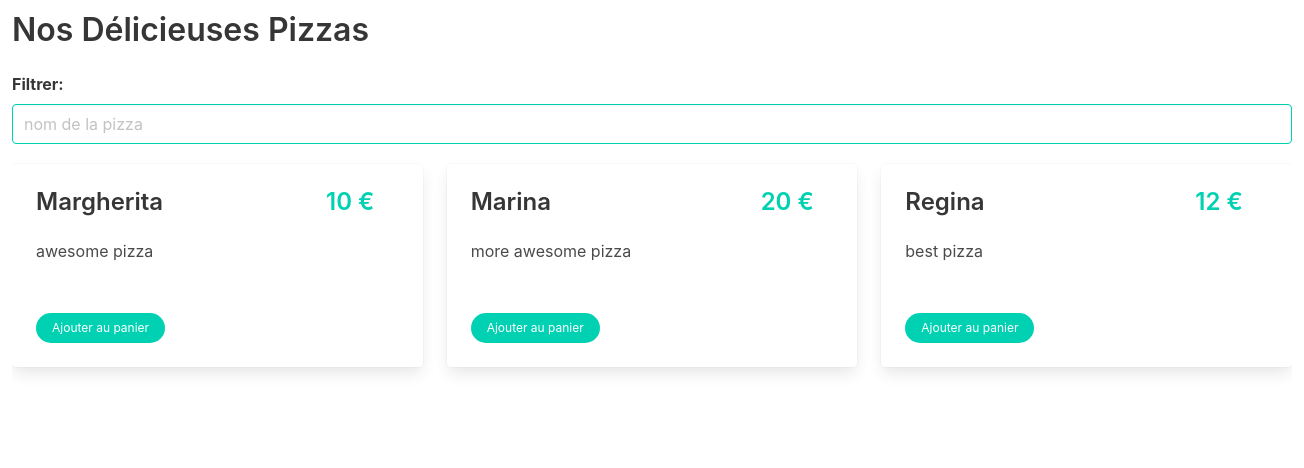
Scenario: pizzas from the store › filter returns results
# use filter, check that pizza list moved accordingly
Type "Mar" into the field with placeholder "nom de la pizza" at (652, 124), box [12,104,1292,144]
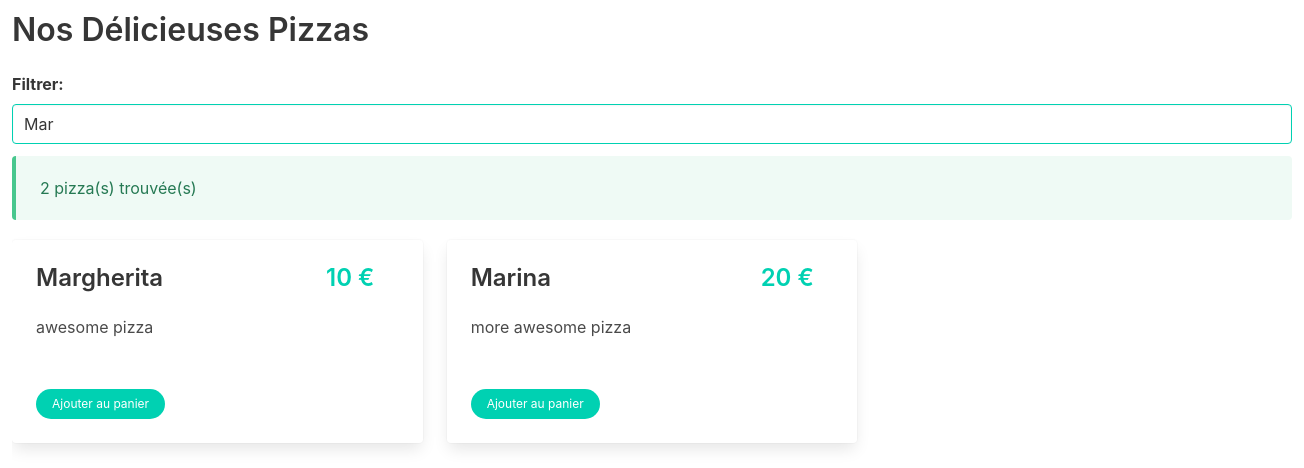
expect the text "2 pizza(s) trouvée(s)" is shown: met, box [12,156,1292,220]
expect the text "Regina" is gone: met
